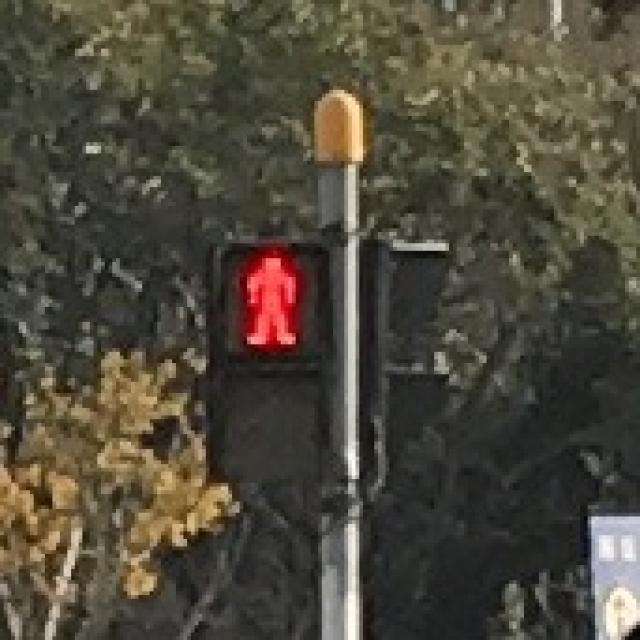red-crossing: (218, 239, 320, 352)
